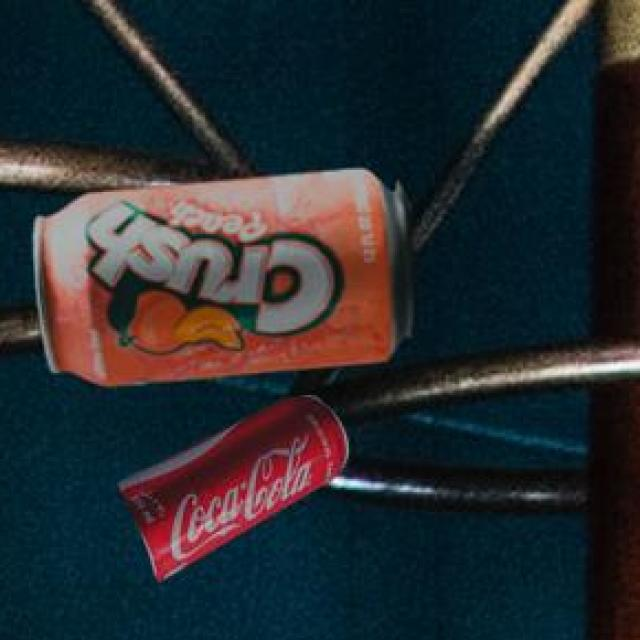logam: (36, 173, 418, 390), (122, 398, 352, 584)
